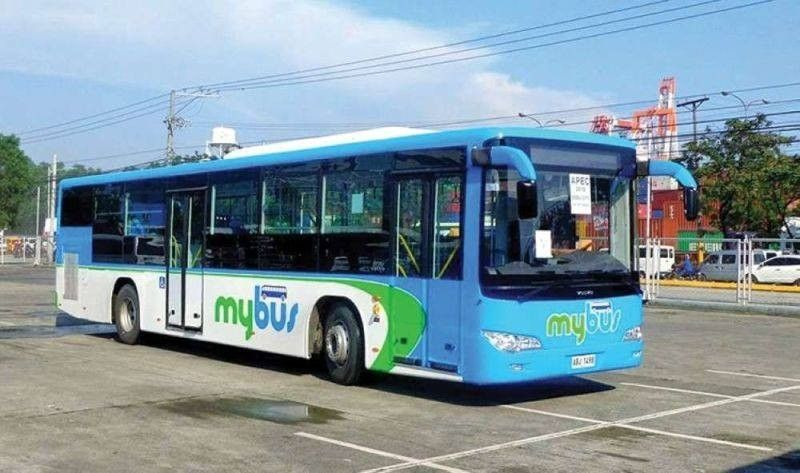bus: (58, 127, 698, 393)
